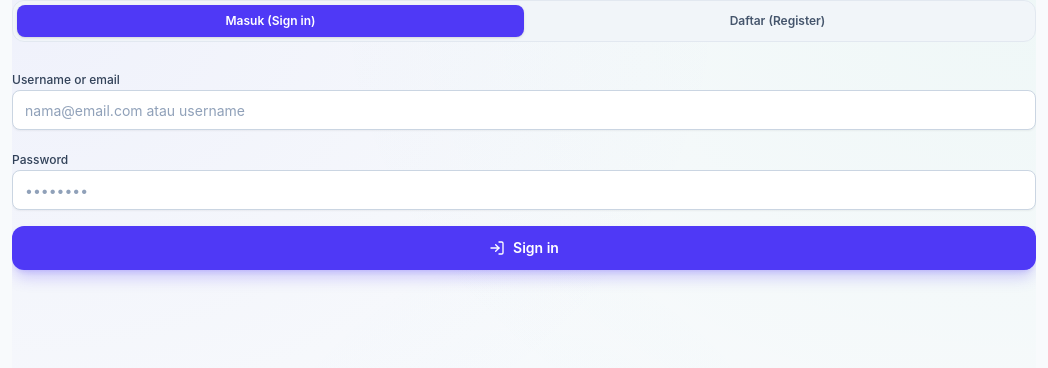
Test: LoginForm › shows a safe API error without navigating
The image size is (1048, 368).
Type "starter@example.com" into the field labelled "Username or email".
click(524, 110); type("starter@example.com")  # box [12, 90, 1036, 130]
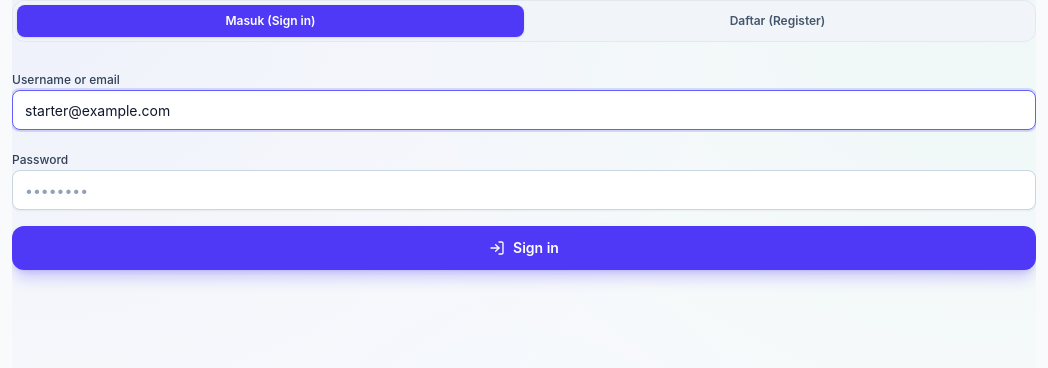
Type "wrong-password" into the password field labelled "Password".
click(524, 190); type("wrong-password")  # box [12, 170, 1036, 210]
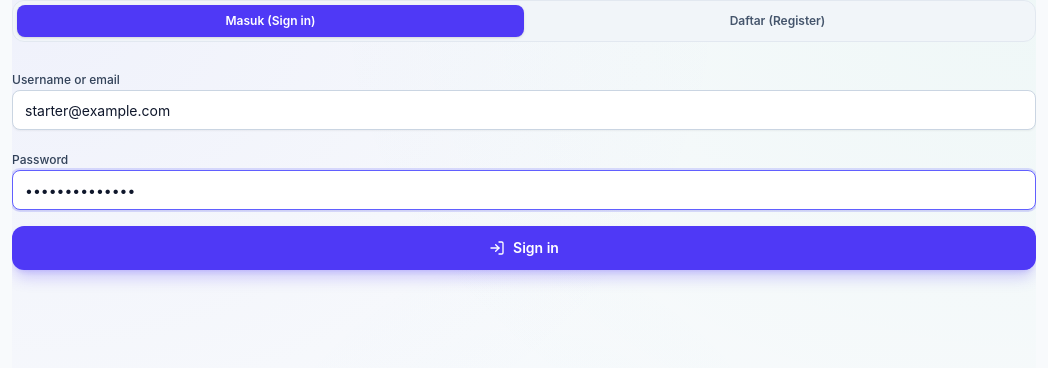
Click the button "Sign in".
click(524, 248)  # box [12, 226, 1036, 270]
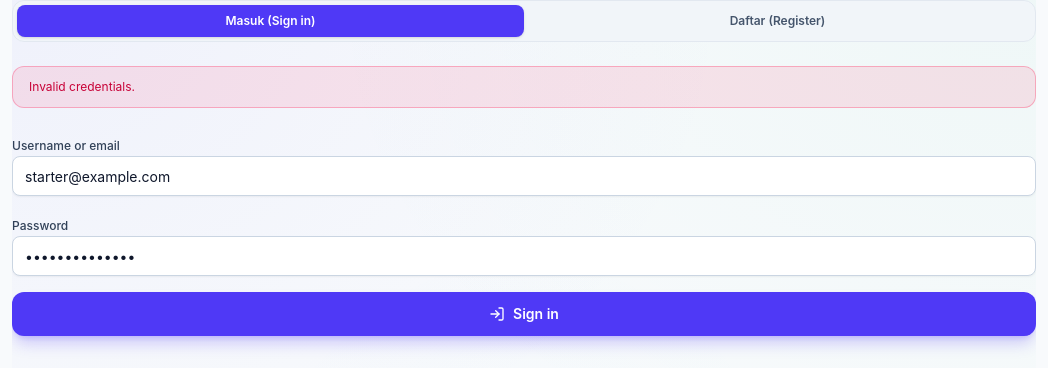
Expected: the message reads "Invalid credentials.", [29, 79, 135, 94]
